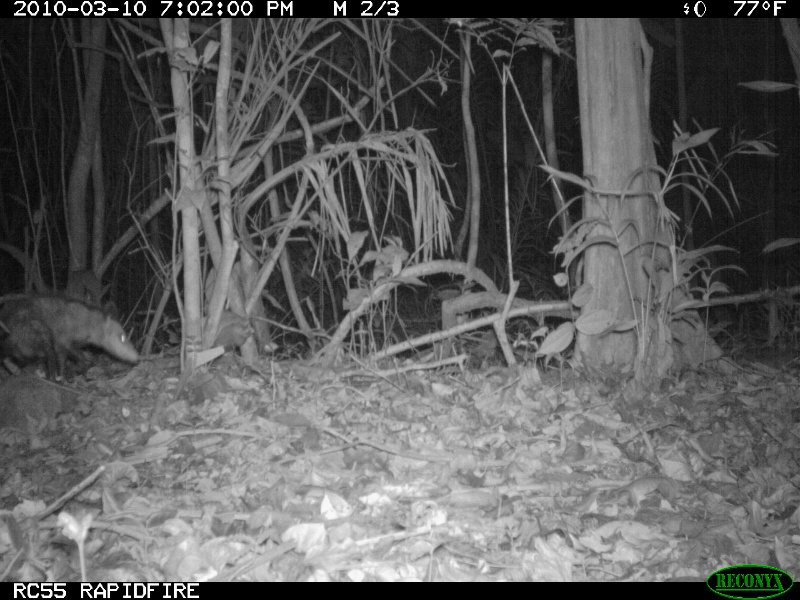opossum: (1, 286, 148, 382)
